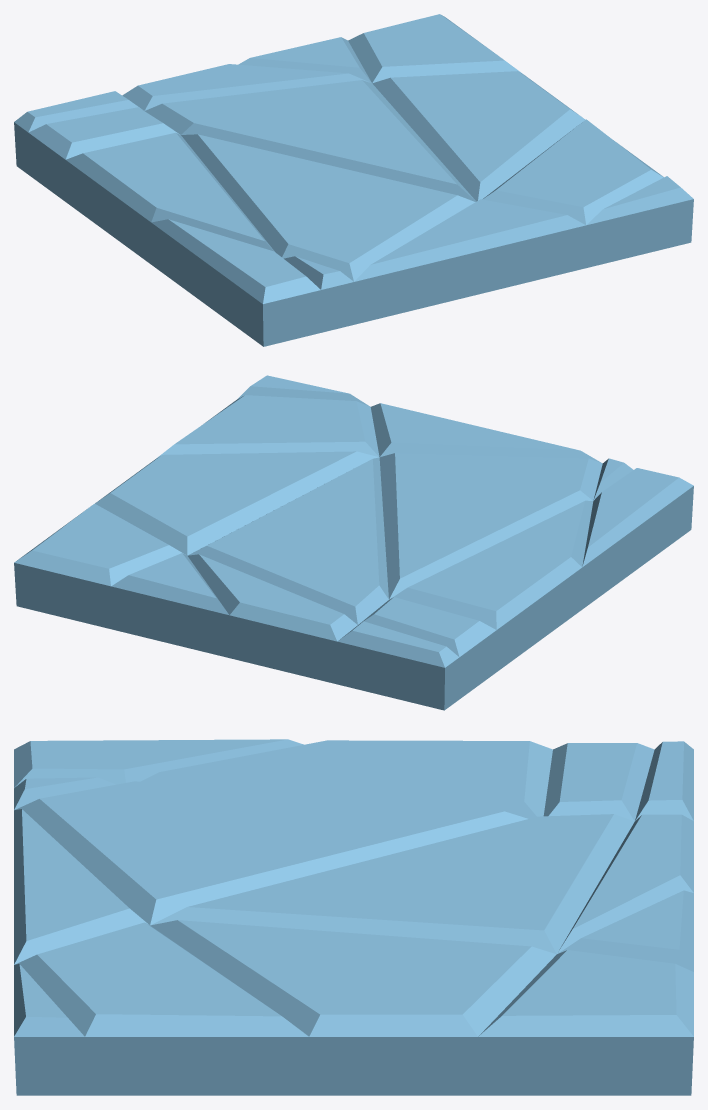
The model's file is bricks style 3.fbx.
3 views of the same model, one above another, from view 1: azimuth 30°, elevation 25°; view 2: azimuth 150°, elevation 25°; view 3: azimuth 270°, elevation 25° (orthographic). The views are drawn at different scales.
Parts seen in each view (by area): view 1: Cube.104; view 2: Cube.104; view 3: Cube.104.
Part boxes in pixels (box(x1,y1,x2,y2)): Cube.104: box(14, 14, 693, 346); Cube.104: box(14, 375, 693, 710); Cube.104: box(14, 739, 693, 1095).
Size of the model in its own units: 302 by 36.61 by 302.
